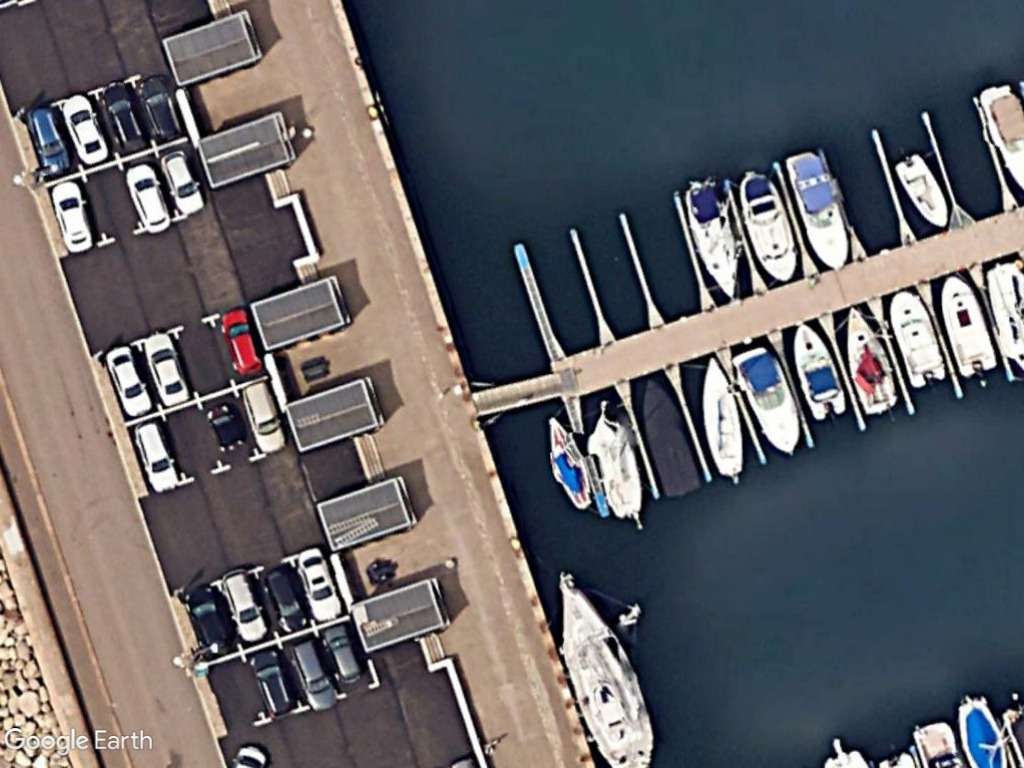boat: (553, 570, 656, 768), (783, 147, 853, 273), (730, 347, 806, 462), (681, 173, 745, 304), (692, 353, 752, 483), (582, 407, 647, 524), (737, 166, 800, 285), (844, 302, 903, 422), (886, 283, 950, 393), (942, 270, 999, 382), (794, 318, 849, 423), (542, 411, 593, 512), (895, 150, 952, 230)
car: (183, 581, 236, 661), (220, 565, 272, 646), (102, 340, 155, 419), (287, 635, 340, 713), (120, 163, 176, 236), (22, 102, 75, 179), (296, 542, 343, 625), (240, 378, 289, 456), (59, 92, 111, 164), (143, 332, 192, 408), (102, 80, 150, 157), (155, 147, 207, 218), (131, 417, 180, 492), (249, 643, 298, 718), (49, 179, 96, 257), (220, 305, 267, 382), (319, 614, 366, 689), (263, 565, 311, 637)
